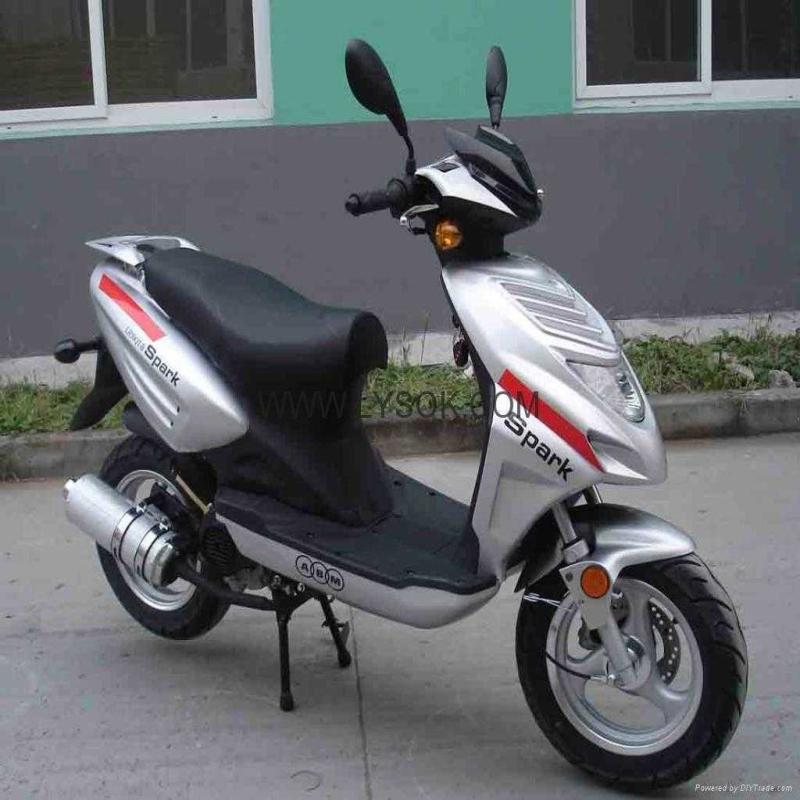bike: (45, 28, 754, 772)
